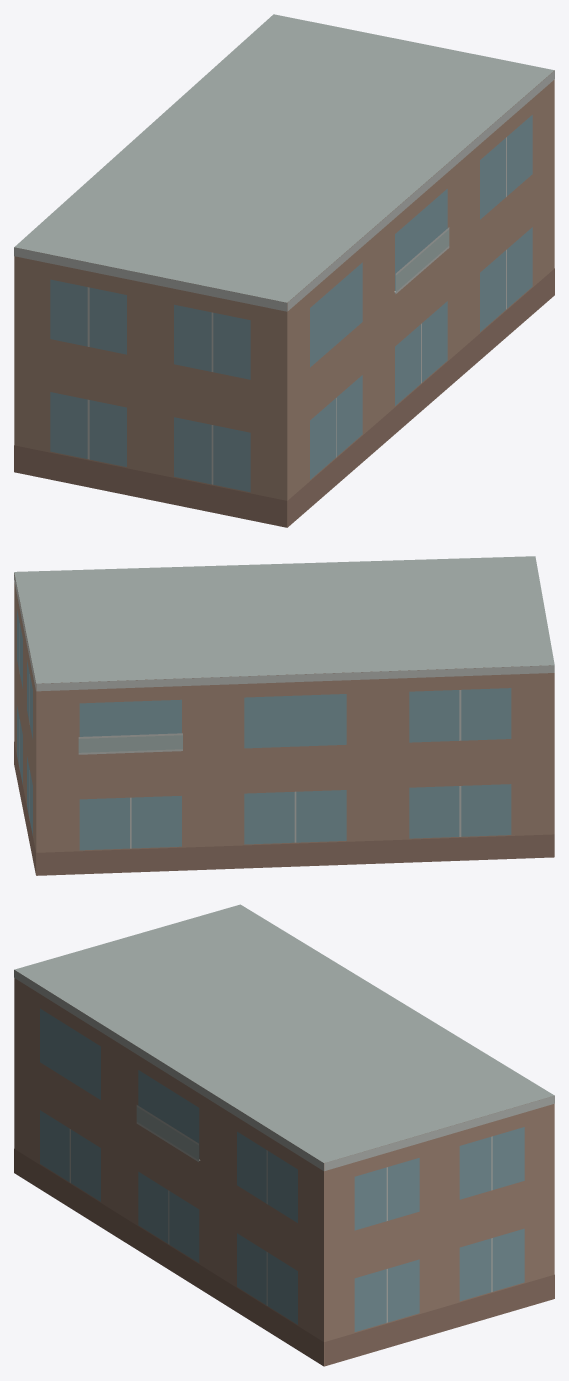
The model's file is survey-upis-32876289.glb.
3 views of the same model, one above another, from view 1: azimuth 30°, elevation 25°; view 2: azimuth 150°, elevation 25°; view 3: azimuth 270°, elevation 25° (orthographic). The views are drawn at different scales.
Parts seen in each view (by area): view 1: survey-upis-32876289.tmp; view 2: survey-upis-32876289.tmp; view 3: survey-upis-32876289.tmp.
Part boxes in pixels (x1,y1,x2,y2): survey-upis-32876289.tmp: (14, 14, 554, 527); survey-upis-32876289.tmp: (14, 556, 554, 875); survey-upis-32876289.tmp: (14, 904, 554, 1366).
Bounding box in the file's own units: 16.66 × 6.1 × 14.71.
